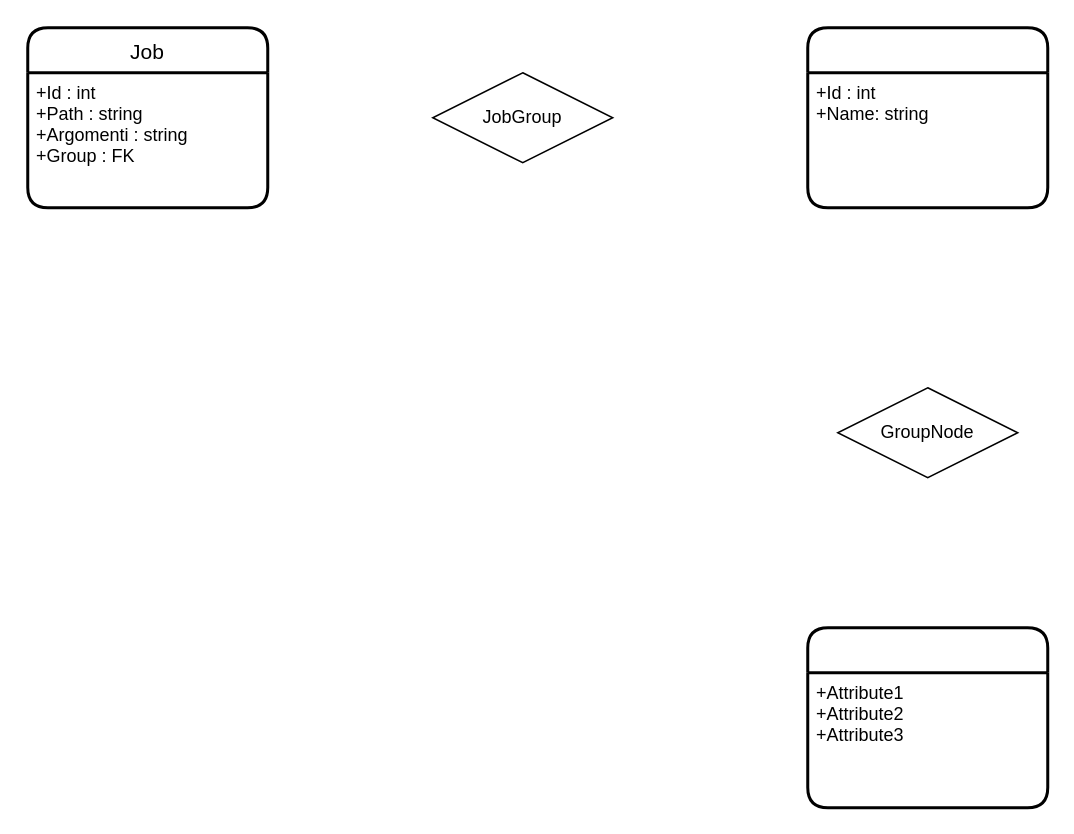
Some shapes in this 1074 by 834 pixel diagram are drawn without their labels. Here are the shapes that lost their labels. From the top down, the box of each, then its label:
(806, 26, 1048, 208): Group
(806, 626, 1048, 808): Node
